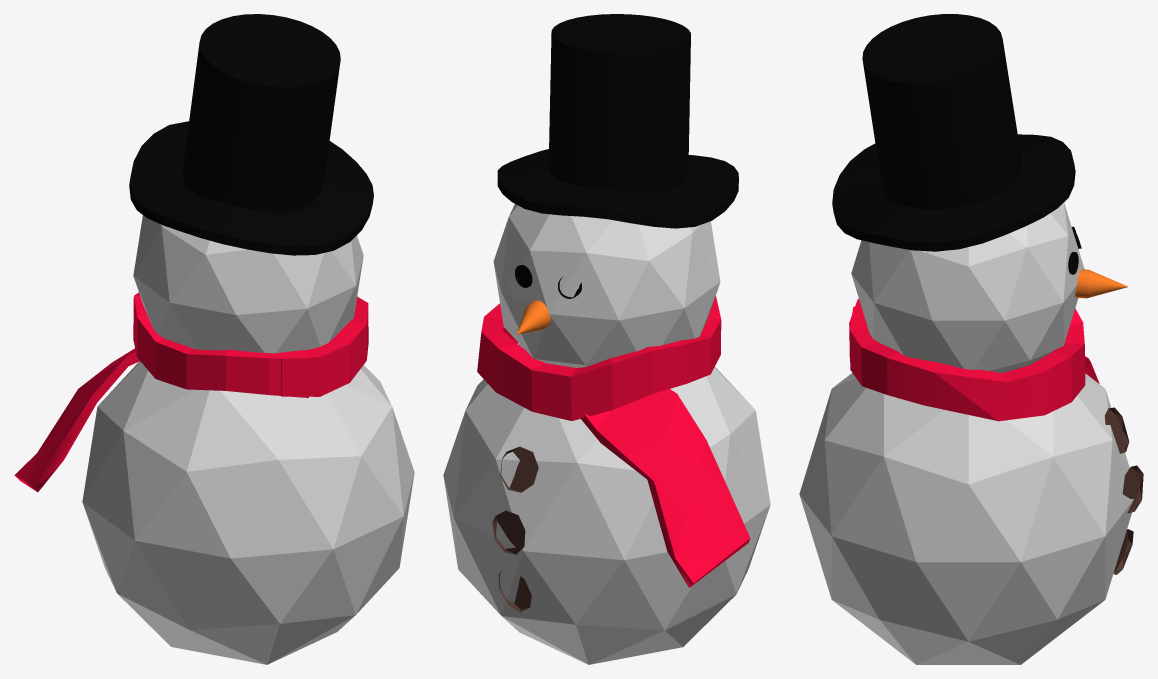
File: snowman 1.fbx
3 renders of one model, left to right at view 1: azimuth 30°, elevation 25°; view 2: azimuth 150°, elevation 25°; view 3: azimuth 270°, elevation 25°, orthographic.
Visible parts, largest first — view 1: buttons, Hat, scarf; view 2: buttons, Hat, scarf, nose; view 3: buttons, Hat, scarf, nose.
Part boxes in pixels (bbox=[...]): buttons: bbox=[82, 215, 414, 664]; Hat: bbox=[129, 14, 373, 255]; scarf: bbox=[14, 292, 368, 491]; buttons: bbox=[443, 204, 770, 664]; Hat: bbox=[497, 14, 738, 228]; scarf: bbox=[477, 296, 750, 587]; nose: bbox=[516, 300, 551, 334]; buttons: bbox=[799, 202, 1143, 664]; Hat: bbox=[832, 14, 1075, 251]; scarf: bbox=[849, 298, 1099, 421]; nose: bbox=[1075, 269, 1128, 298].
Bounding box in the file's own units: 317 × 569 × 296.
